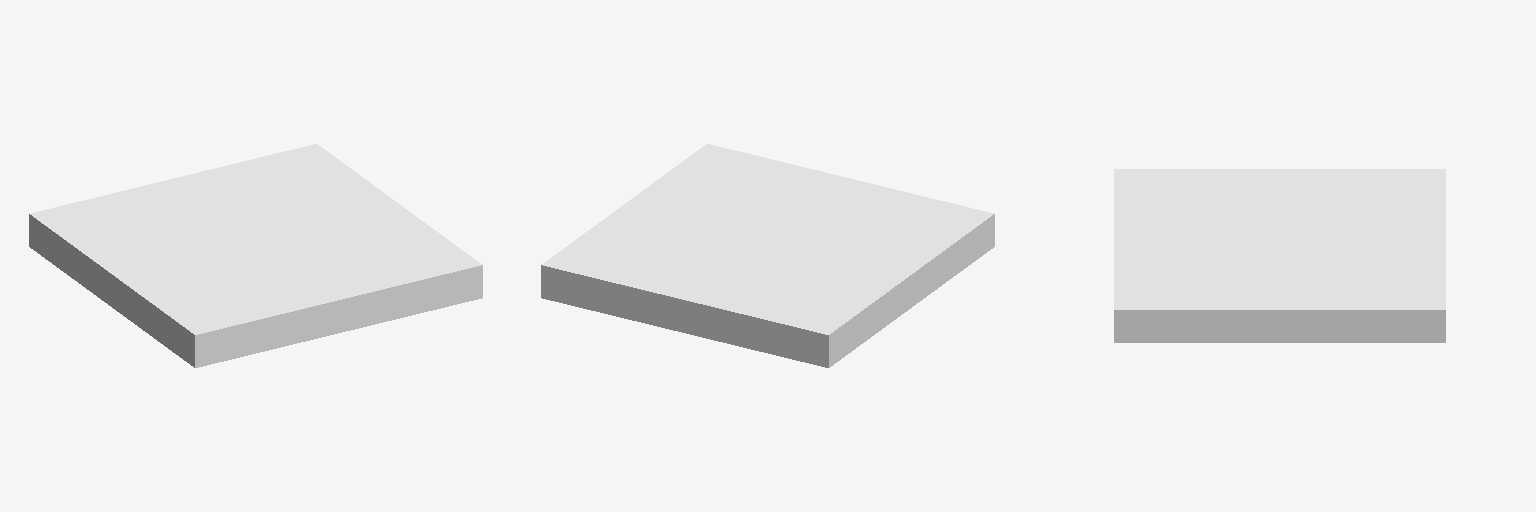
File: Gras_Kreis.obj
3 views of the same model, side by side, from view 1: azimuth 30°, elevation 25°; view 2: azimuth 150°, elevation 25°; view 3: azimuth 270°, elevation 25° (orthographic).
Parts seen in each view (by area): view 1: object 1; view 2: object 1; view 3: object 1.
Boxes of the visible parts, <box> form: object 1: <box>29,144,482,367</box>; object 1: <box>541,144,994,367</box>; object 1: <box>1114,169,1445,342</box>.
Bounding box in the file's own units: 10 × 1.1 × 10.